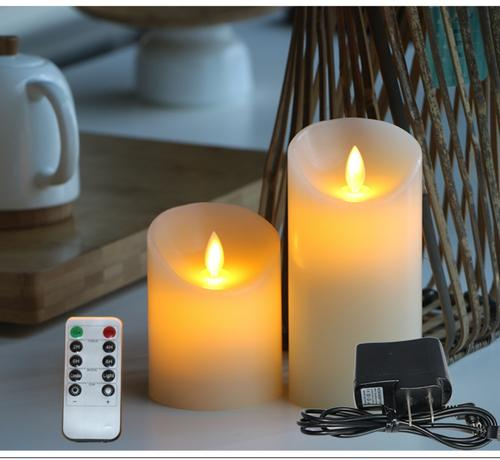Fire: (337, 141, 371, 191), (204, 230, 227, 277)
